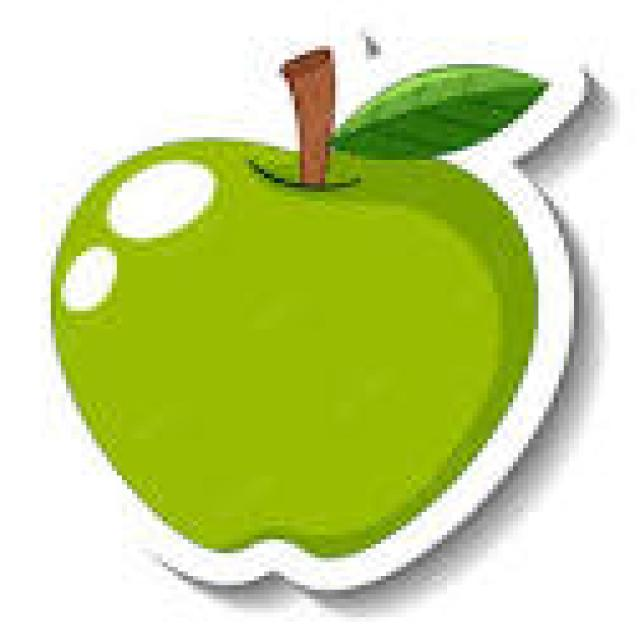apple: (56, 50, 569, 581)
